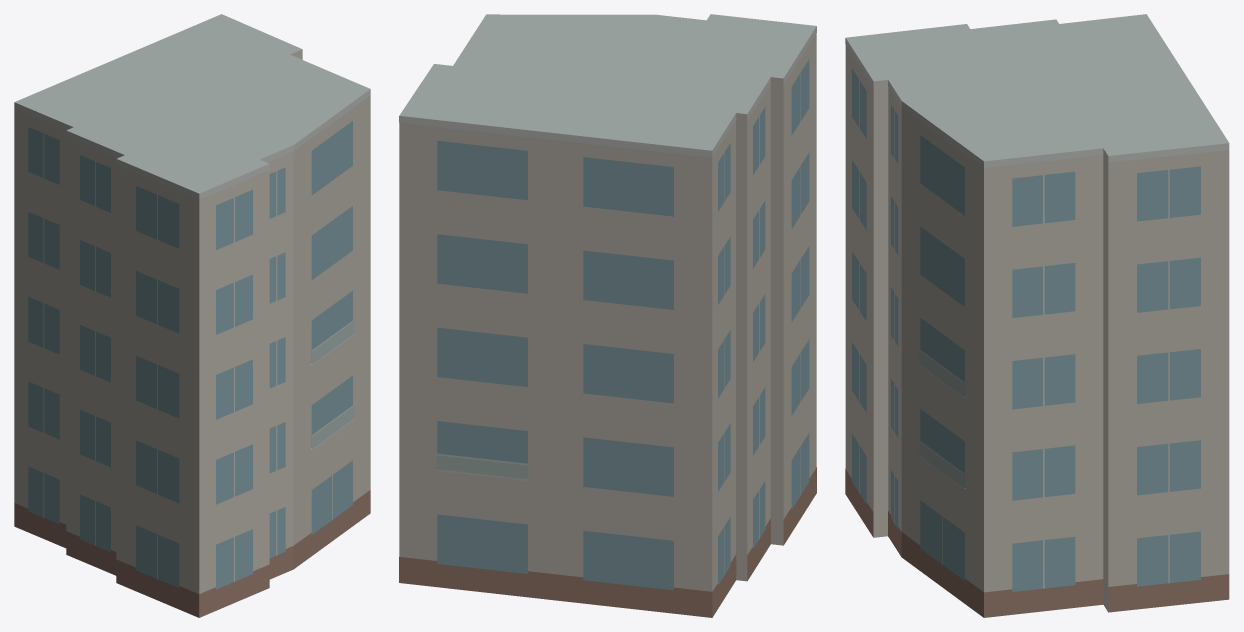
File: survey-upis-33010065.glb
The picture shows the model from 3 angles, left to right: view 1: azimuth 30°, elevation 25°; view 2: azimuth 150°, elevation 25°; view 3: azimuth 270°, elevation 25°; orthographic projection. The views are drawn at different scales.
Parts seen in each view (by area): view 1: survey-upis-33010065.tmp; view 2: survey-upis-33010065.tmp; view 3: survey-upis-33010065.tmp.
Boxes of the visible parts, bbox=[...] form: survey-upis-33010065.tmp: bbox=[14, 14, 370, 617]; survey-upis-33010065.tmp: bbox=[399, 14, 816, 617]; survey-upis-33010065.tmp: bbox=[845, 14, 1229, 617].
Bounding box in the file's own units: 11.51 × 16.6 × 12.67.
